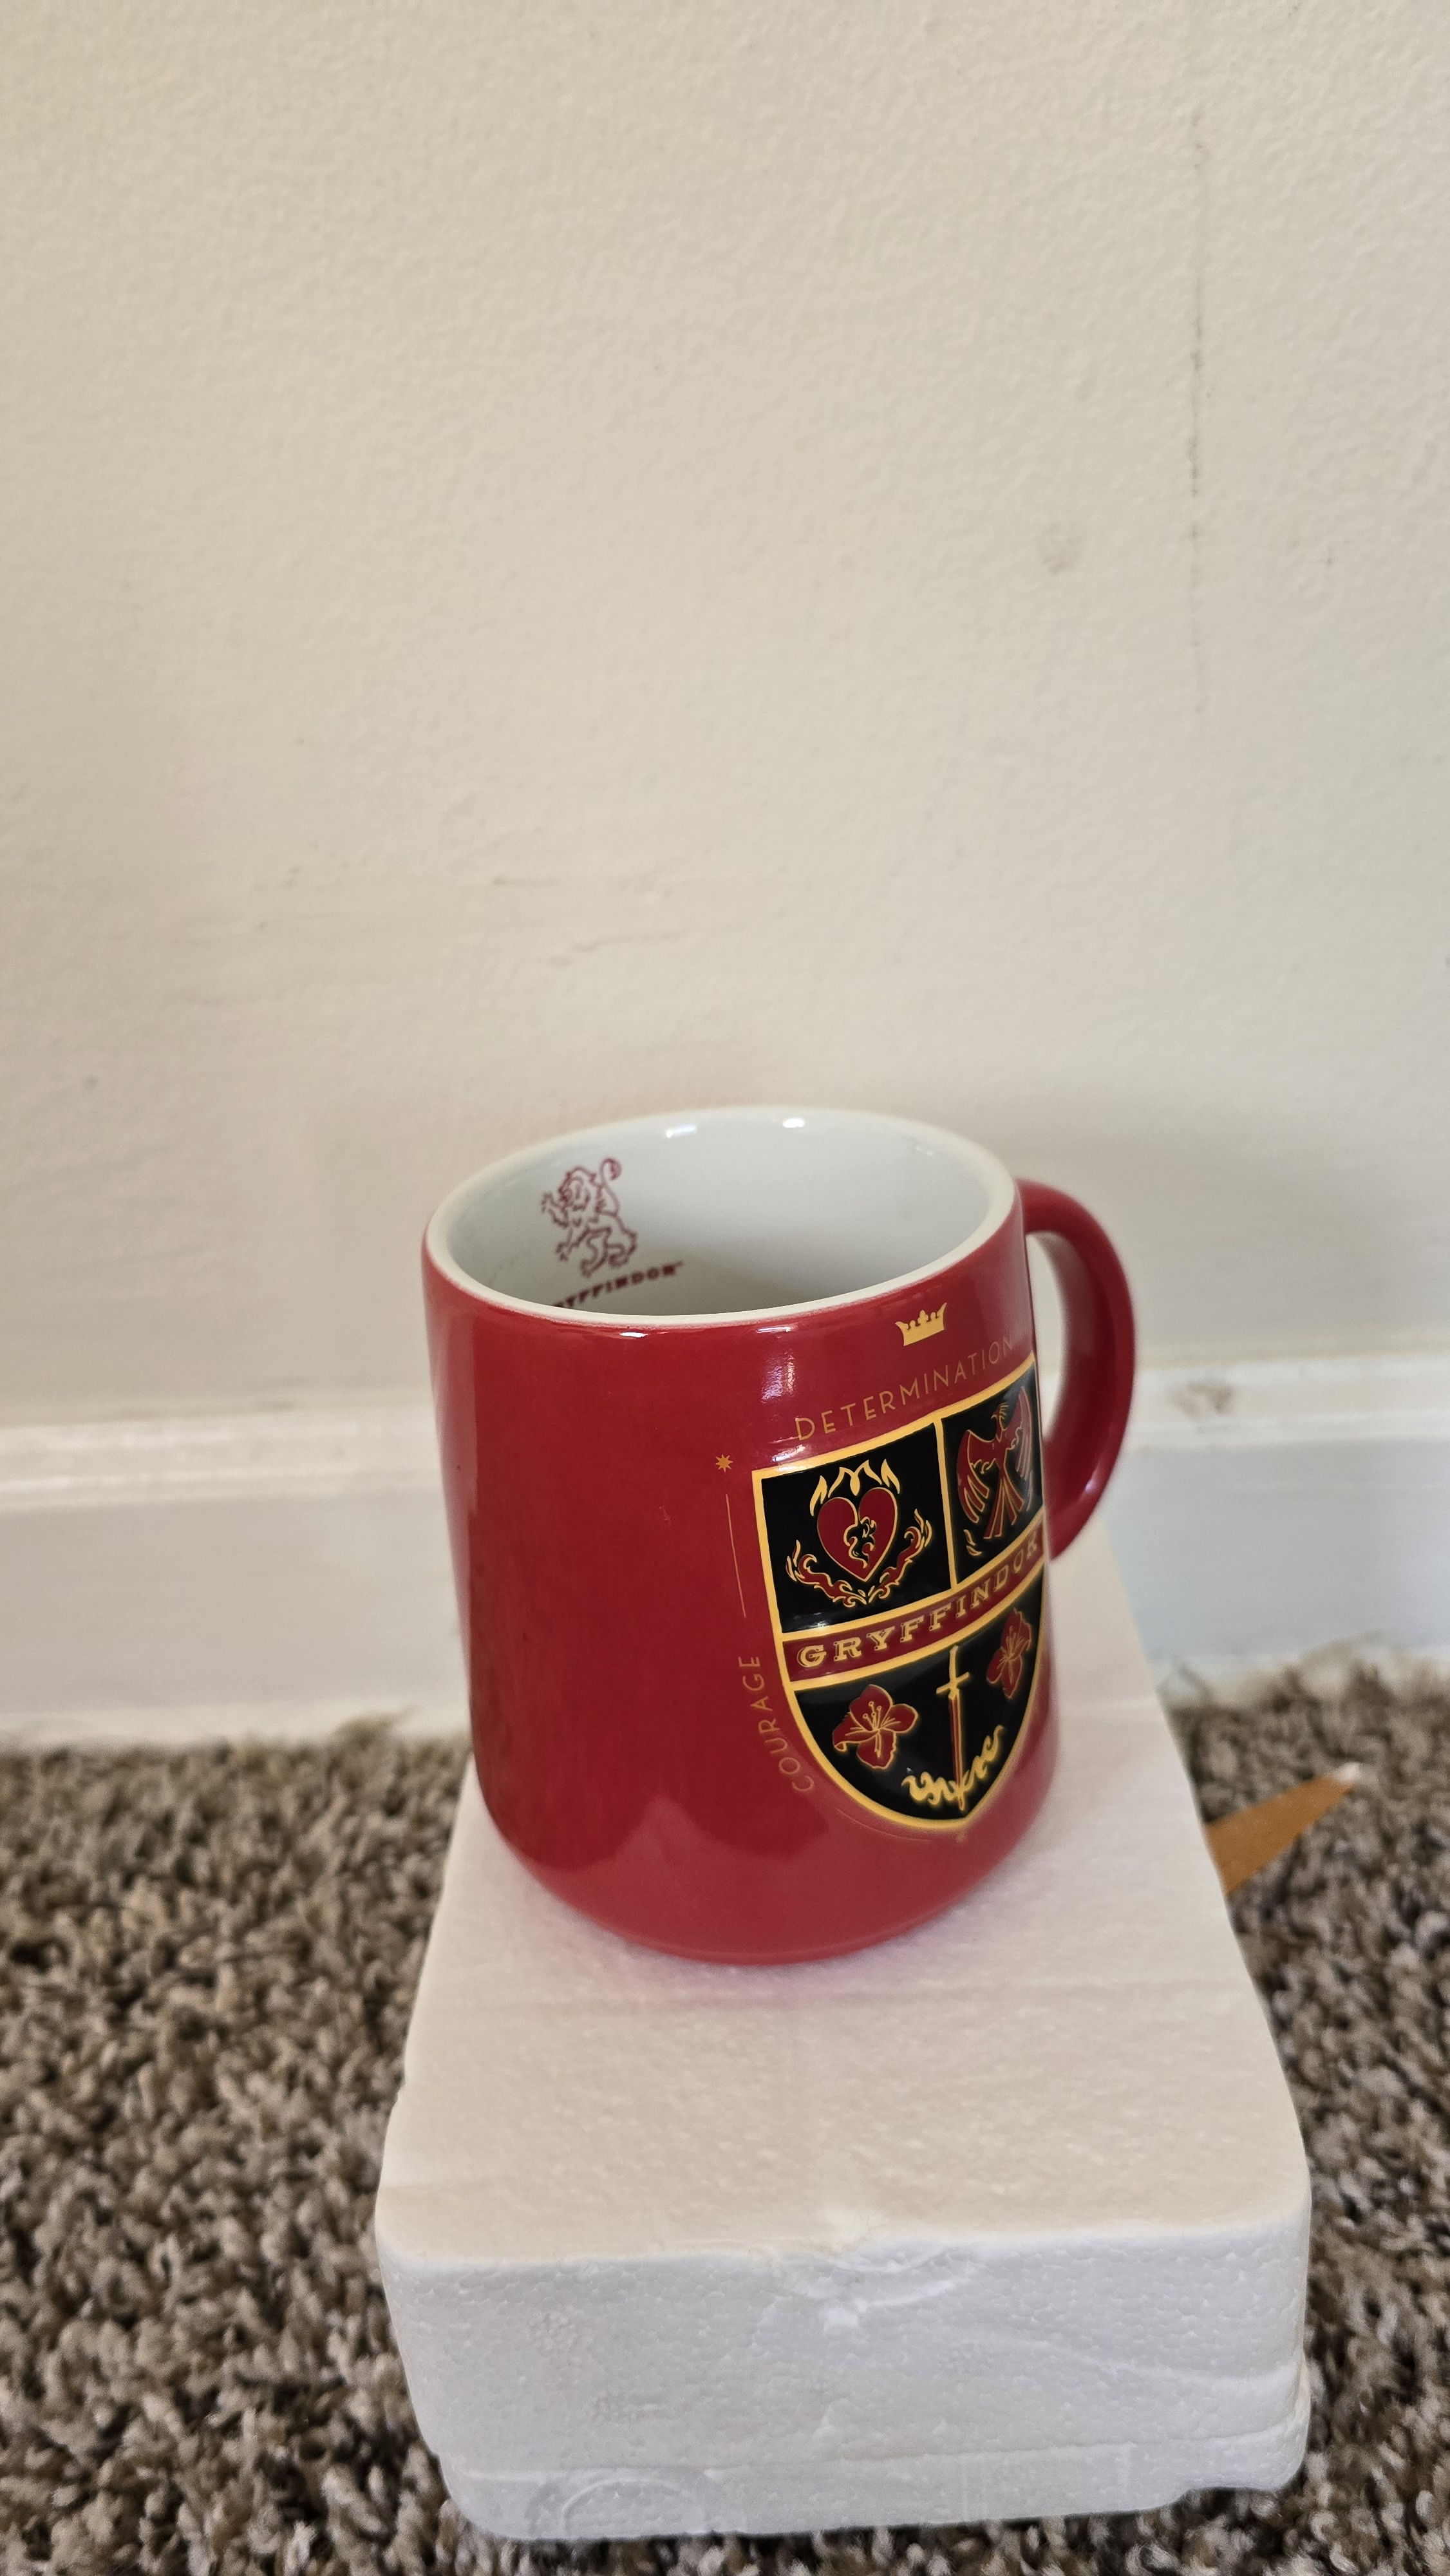mug: (366, 1065, 1248, 2010)
